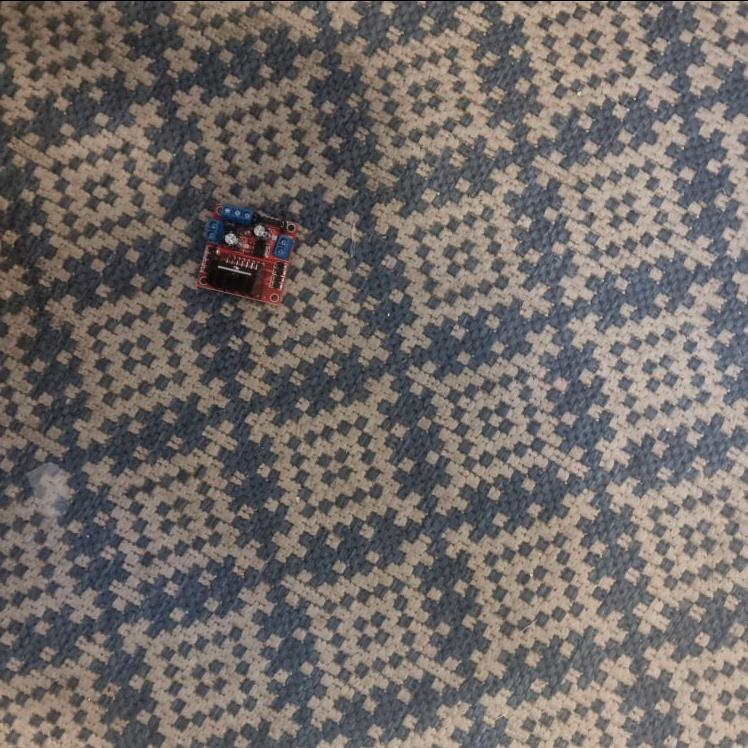MOTOR: (191, 201, 300, 303)
